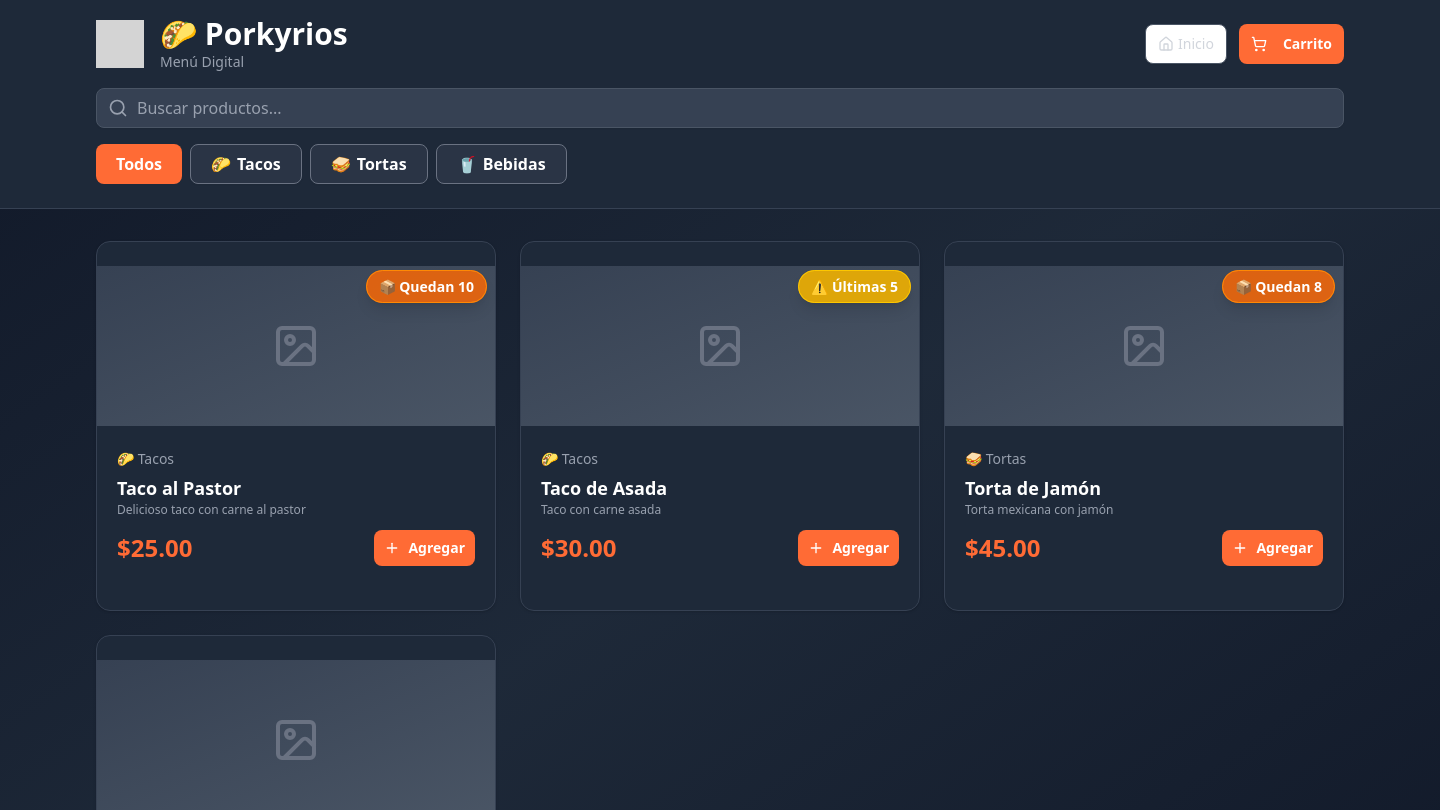
MenuPage Component › Add to Cart › should show quantity in cart after adding
The image size is (1440, 810).
Check: the heading "Taco al Pastor" is shown, box x1=117 y1=476 x2=241 y2=500
Click the button "Agregar" in the row of "25.00": click(425, 548) x1=374 y1=530 x2=475 y2=566
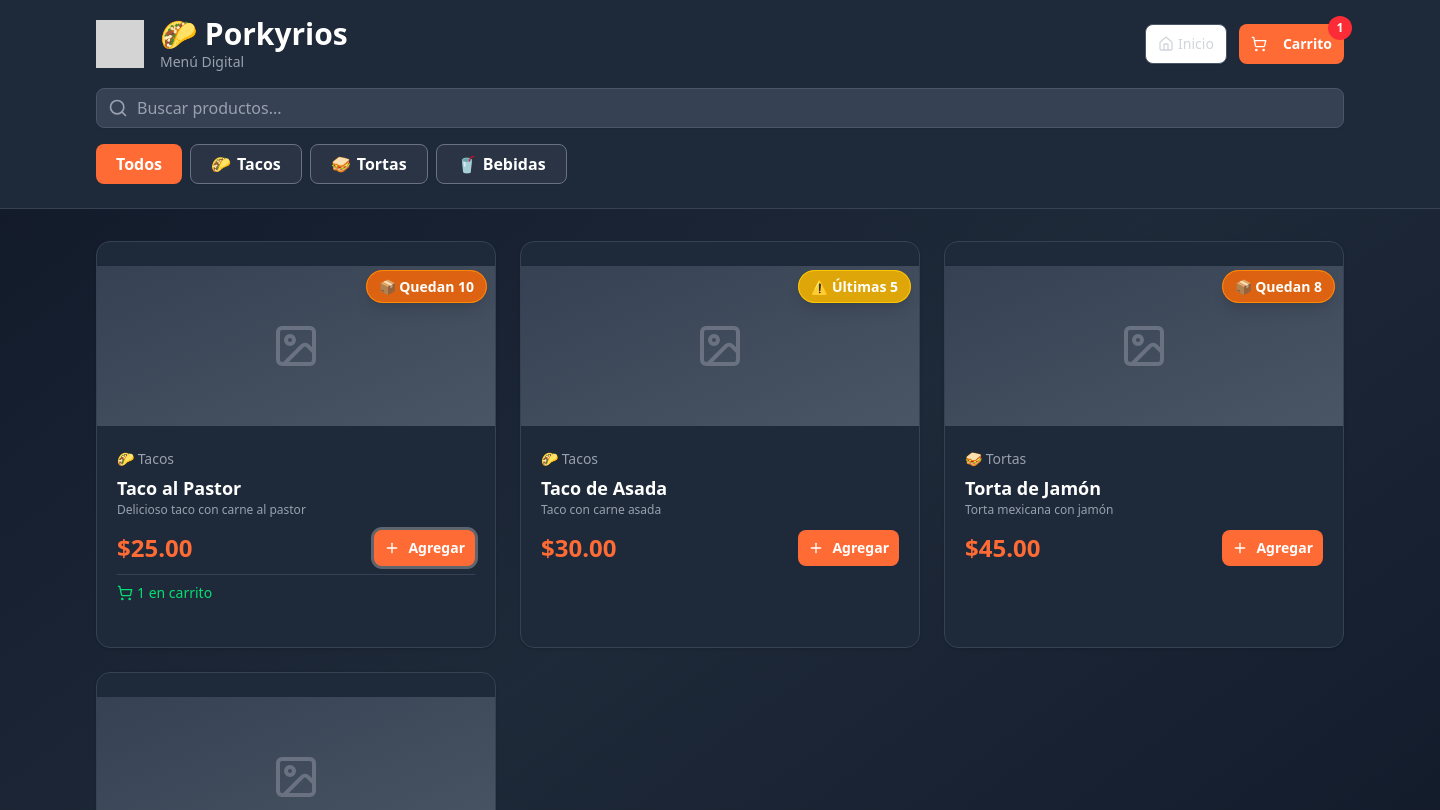
Click the button "Agregar" in the row of "25.00": click(425, 548) x1=374 y1=530 x2=475 y2=566
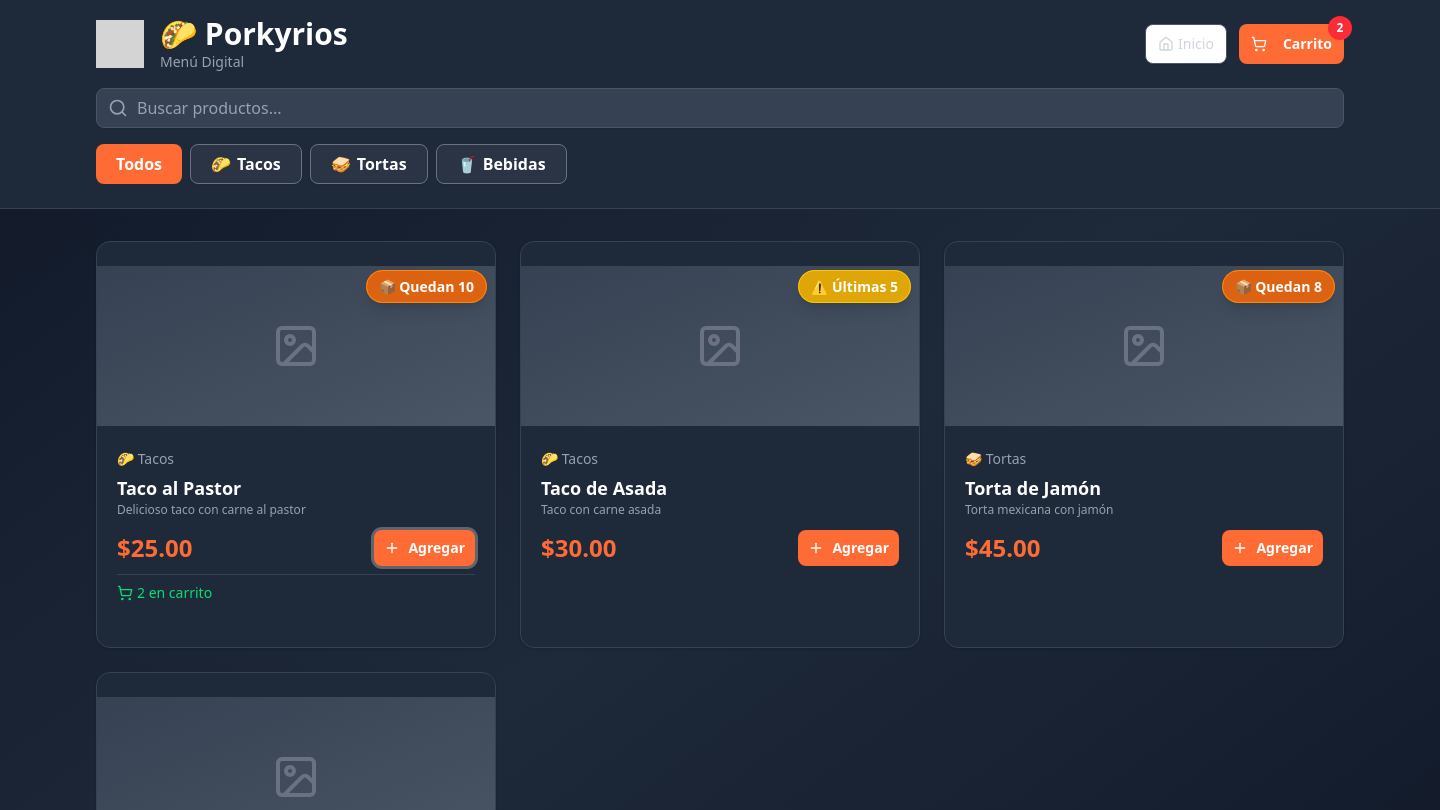
Check: the text "2 en carrito" is shown, box x1=117 y1=583 x2=212 y2=602
